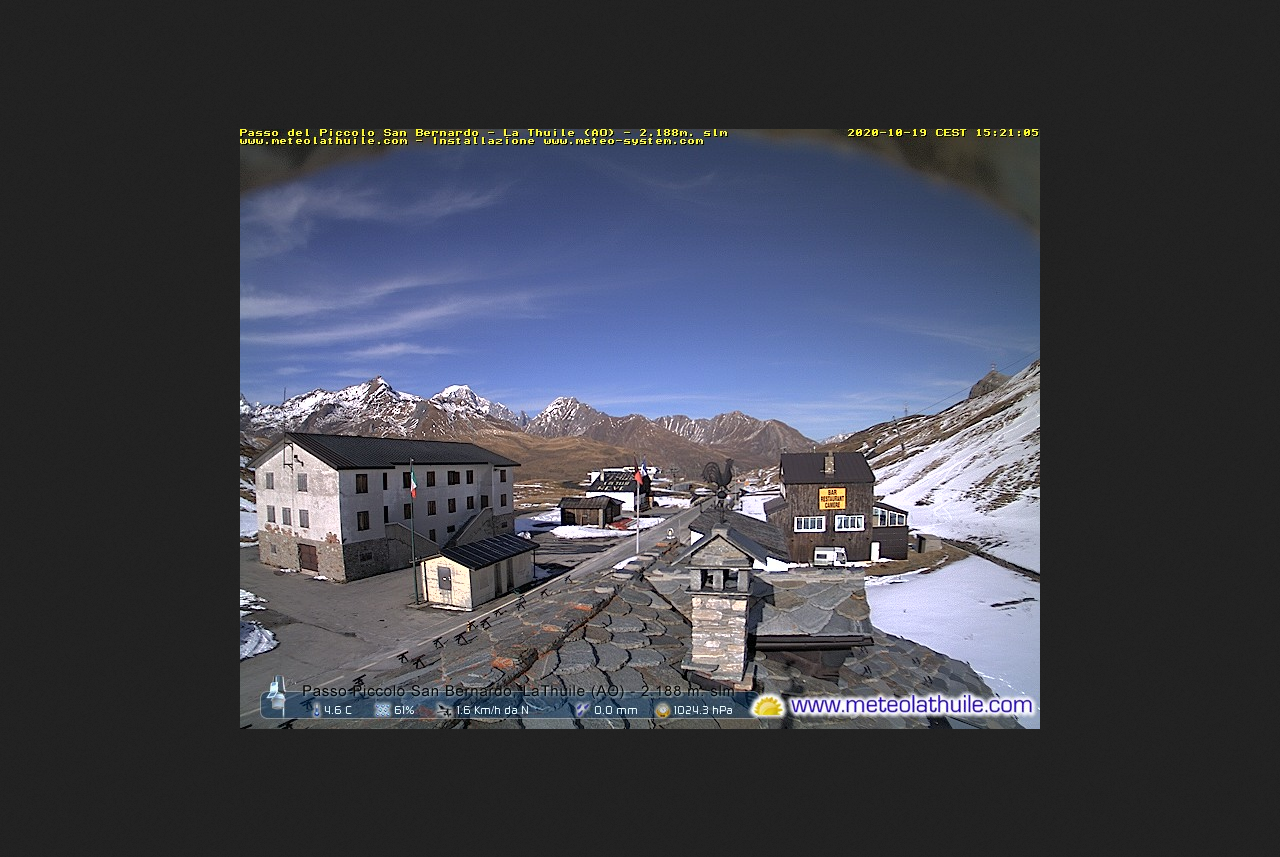no: (405, 464, 420, 497), (633, 465, 645, 485)
